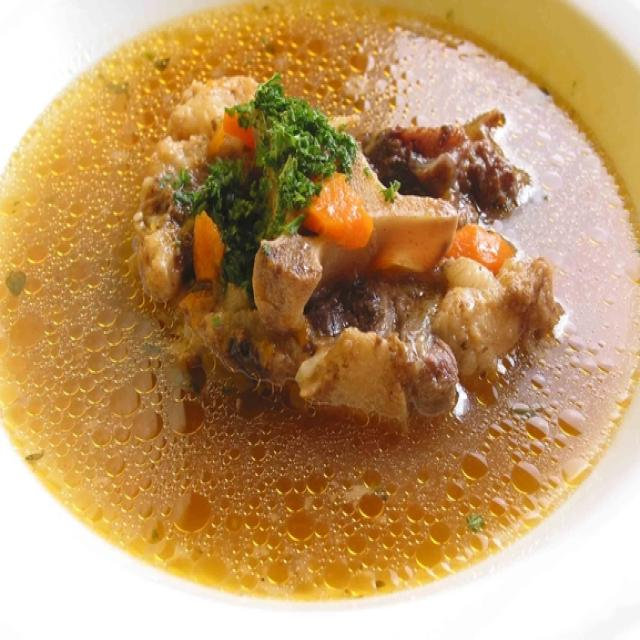汤锅炖物: (21, 21, 623, 584)
